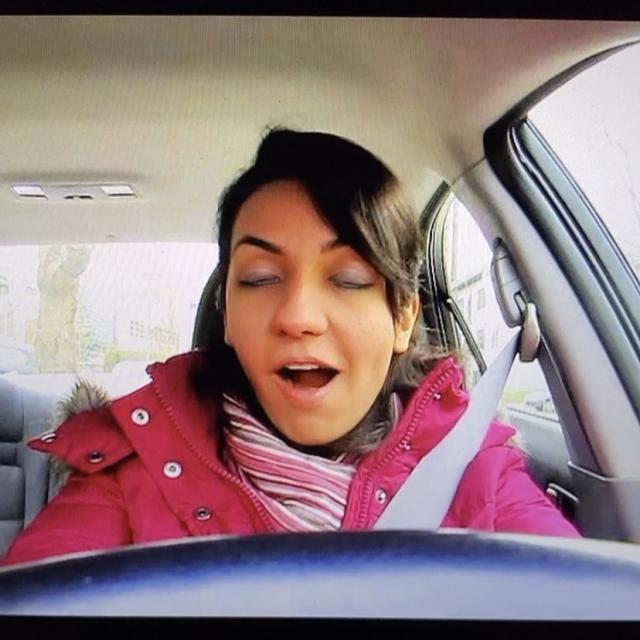no-seatbelt: (222, 241, 409, 307), (257, 356, 357, 404)
